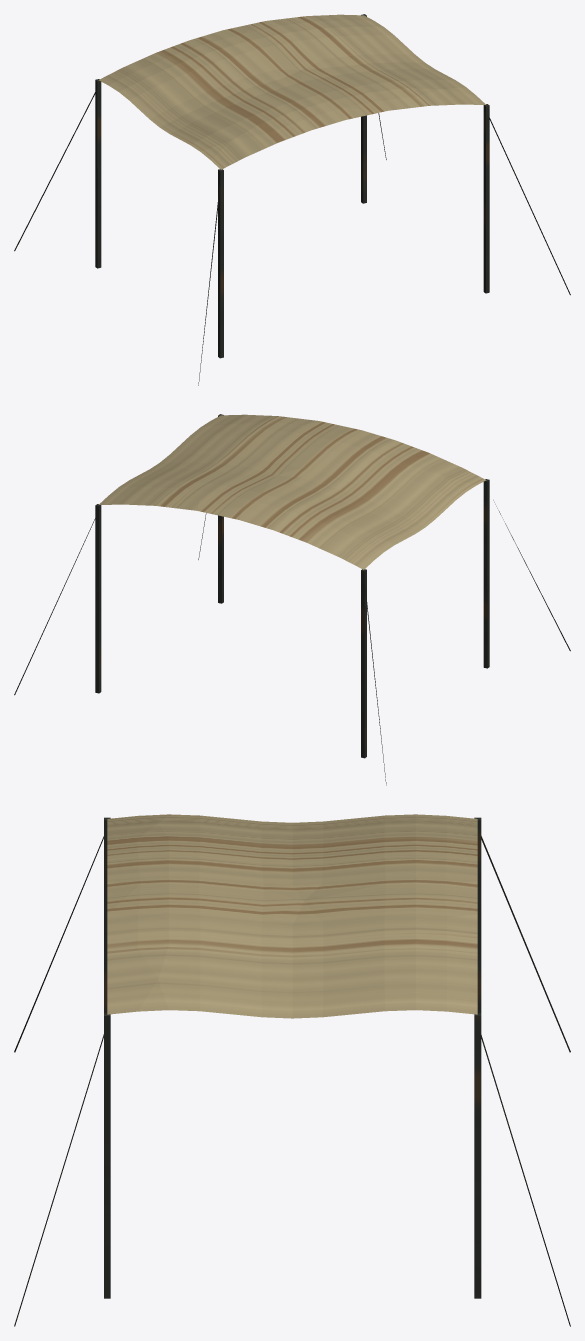
File: service-canopy-lod.obj
The picture shows the model from 3 angles, top to bottom: view 1: azimuth 30°, elevation 25°; view 2: azimuth 150°, elevation 25°; view 3: azimuth 270°, elevation 25°; orthographic projection. The views are drawn at different scales.
Parts seen in each view (by area): view 1: service-canopy.001; view 2: service-canopy.001; view 3: service-canopy.001.
Boxes of the visible parts, <box> form: service-canopy.001: <box>14,14,570,385</box>; service-canopy.001: <box>14,414,570,785</box>; service-canopy.001: <box>14,814,570,1326</box>.
Bounding box in the file's own units: 5.61 × 3.02 × 4.81.
1 material, 1 textured.
